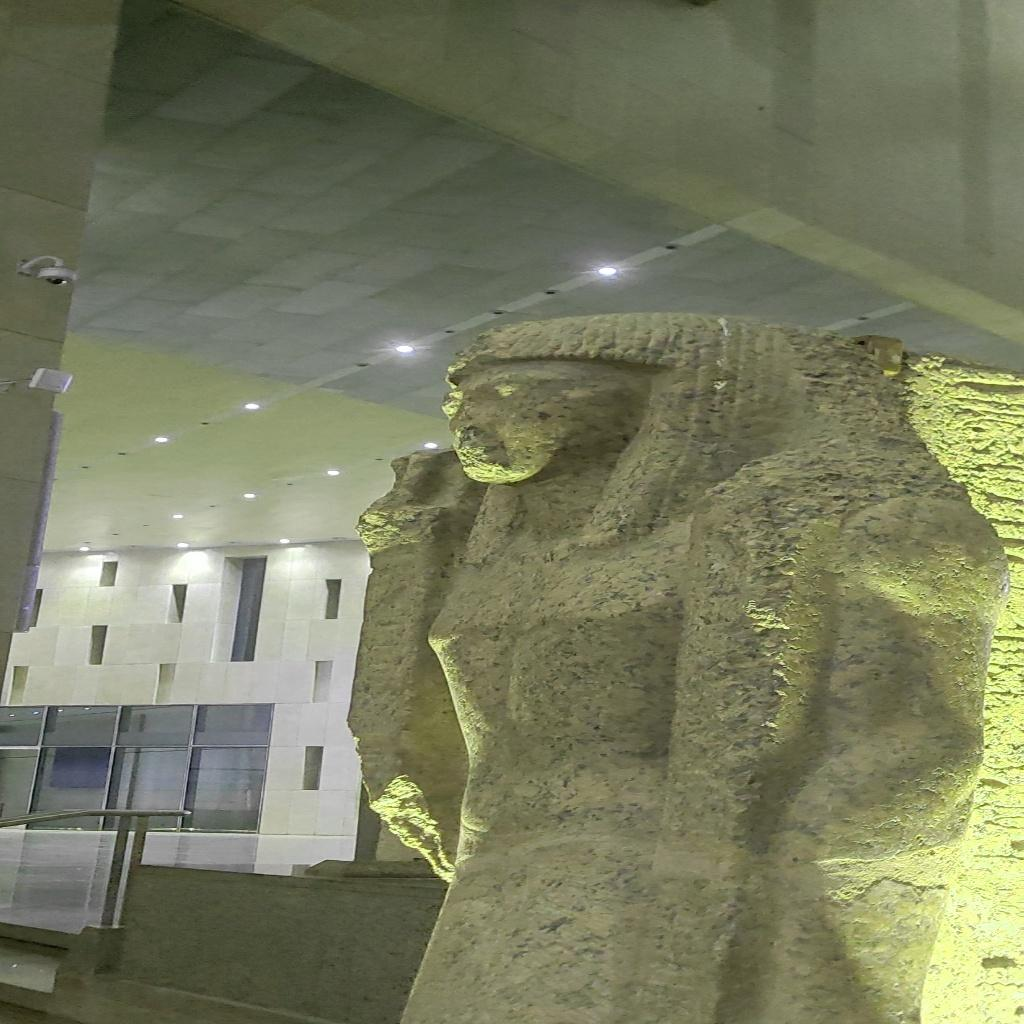Statue of Merenptah as standard Bearer: (344, 308, 1012, 1020)
